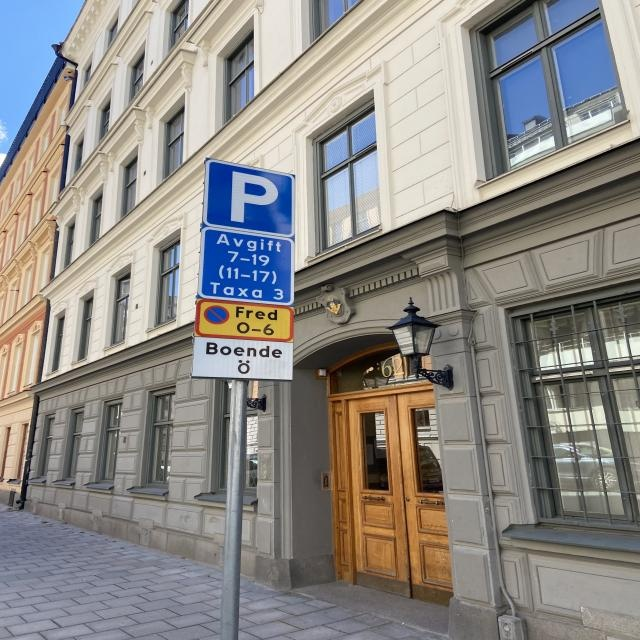P-skylt: (206, 155, 294, 241)
